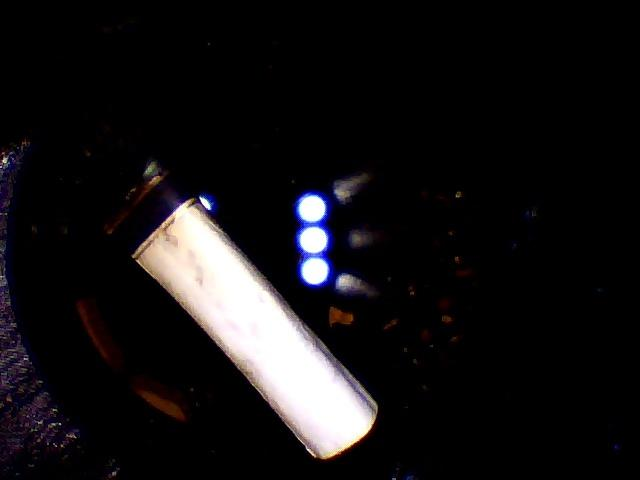megot: (77, 151, 385, 462)
